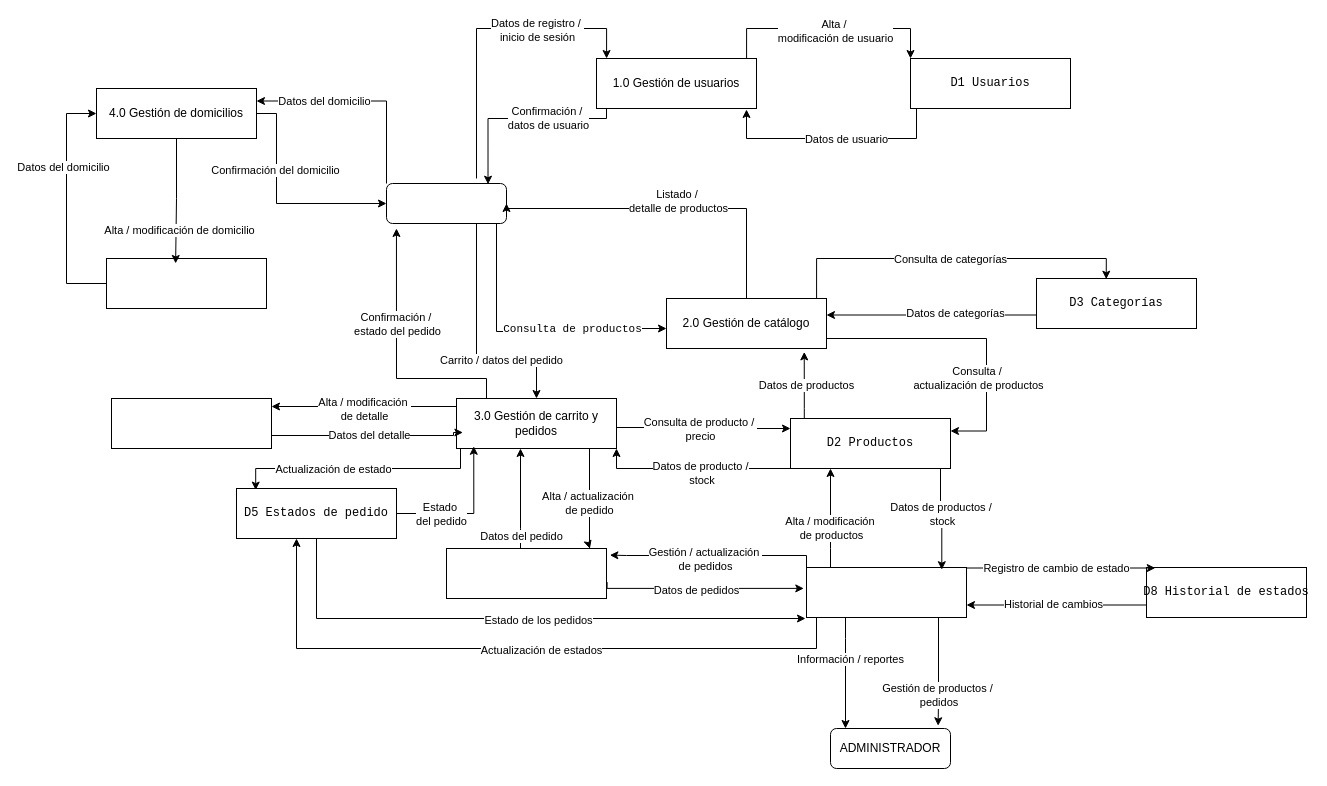
Image size: 1327x786. Some labels were removed from this diagram. The shapes that lost their labels are listed below. From the top down, each one's centre as x and y in pixels, then its label:
(446,203): CLIENTE
(186,283): D6 Domicilios
(191,423): D7 Detalle de pedidos
(526,573): D4 Pedidos
(886,592): 5.0 Administración
